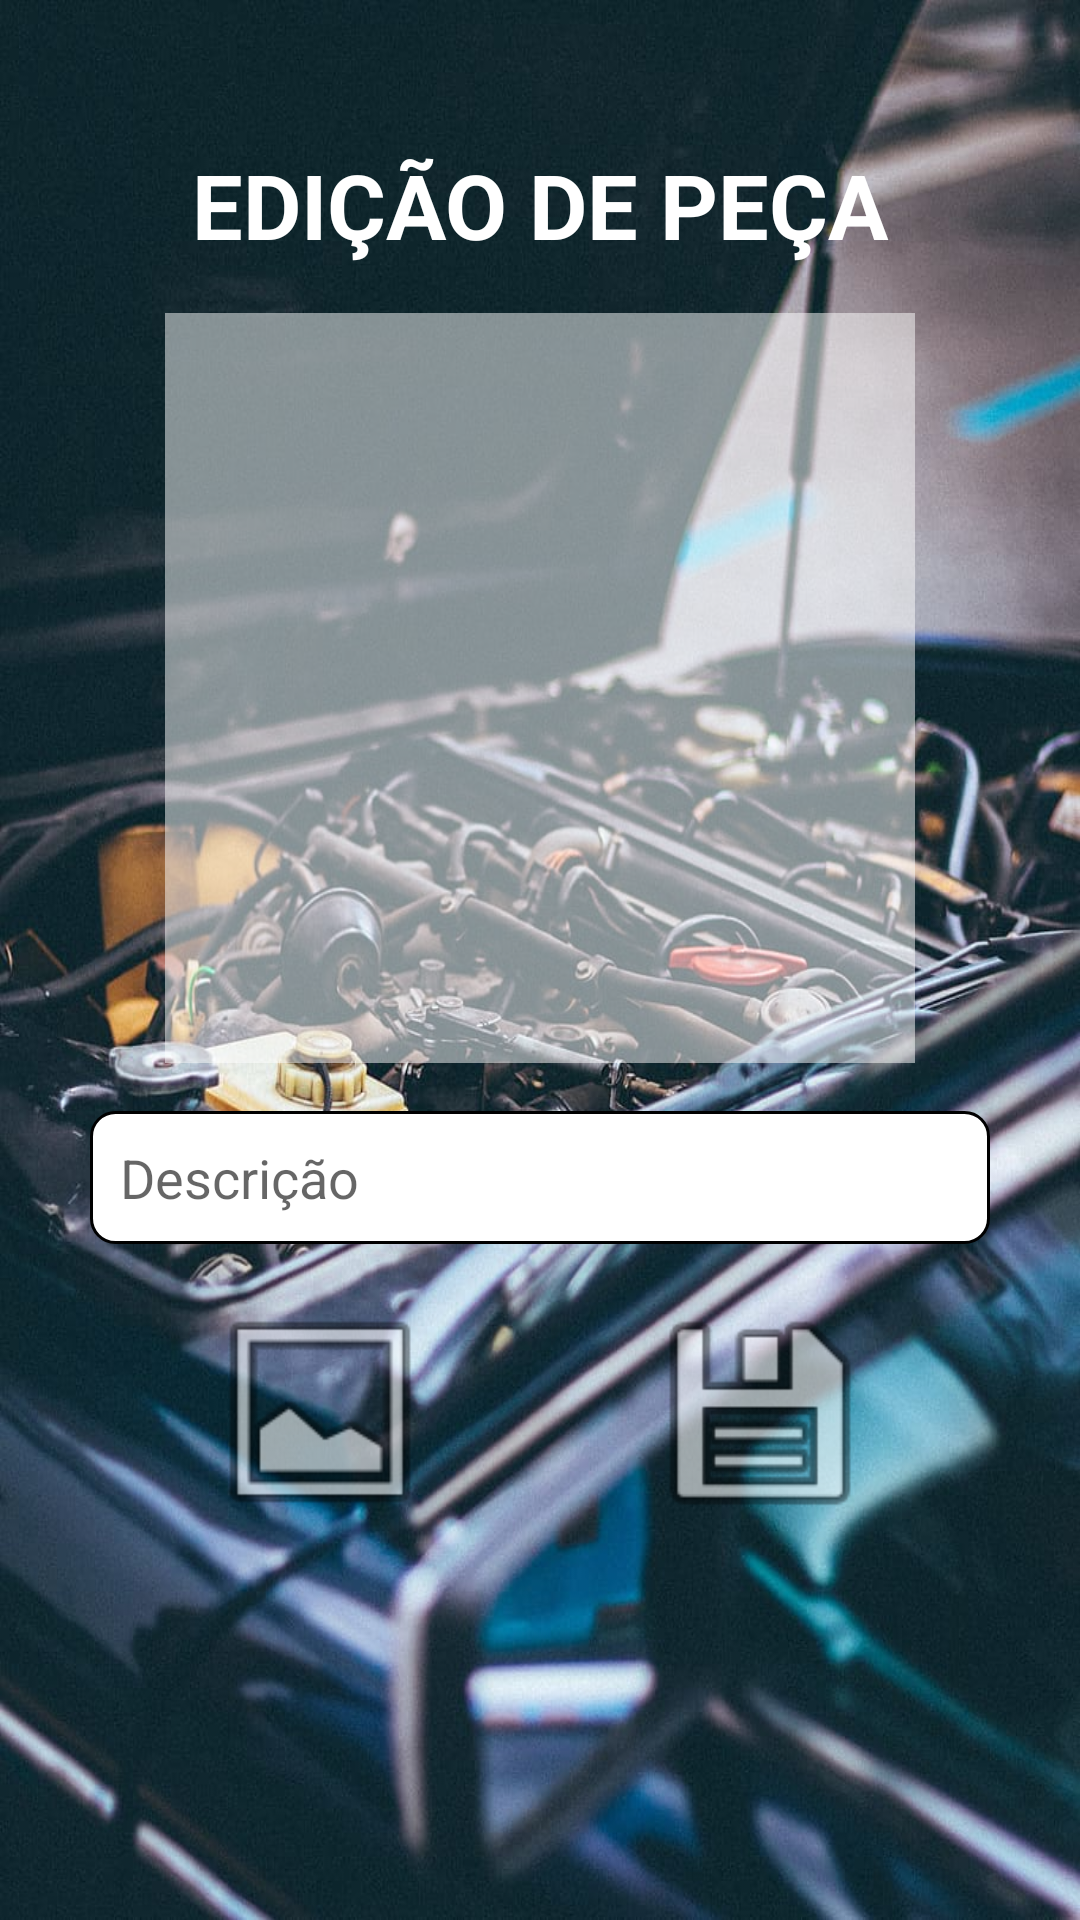

Icons on this 1080w x 1920h Android screen, each with the point to tap as [x,y]:
gallery: [320,1412]
save: [760,1412]
